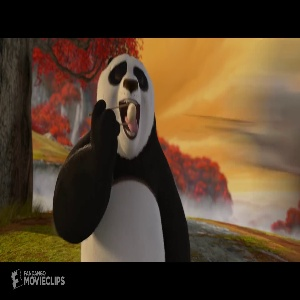po: (52, 53, 192, 261)
